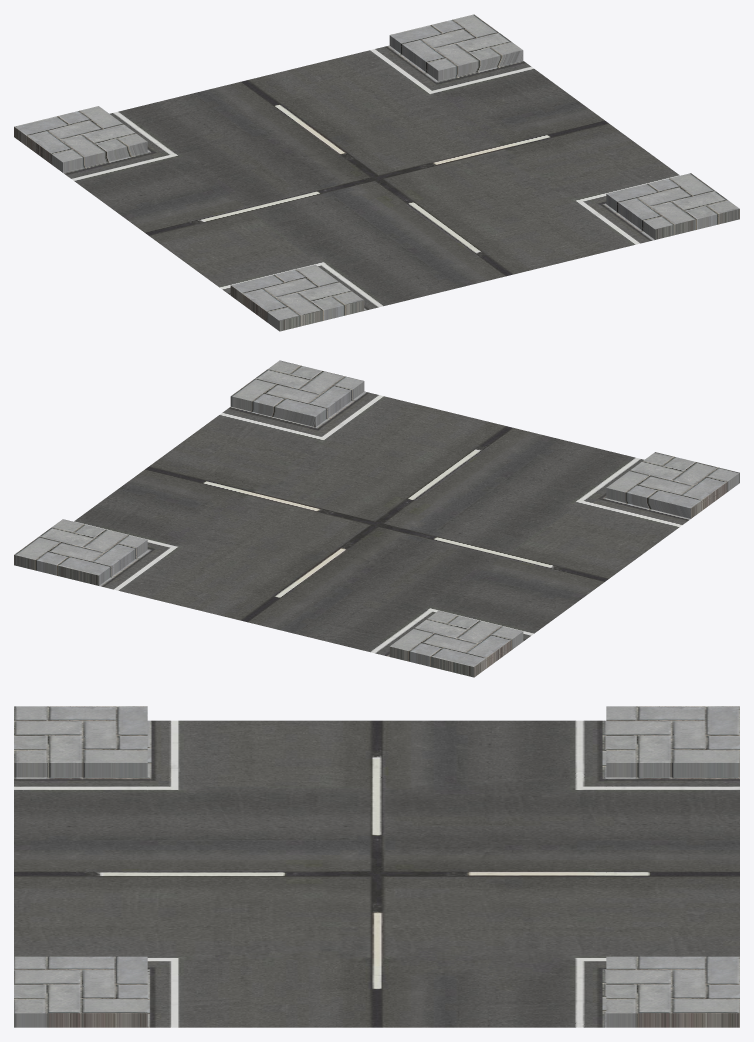
The model's file is road3.obj.
3 views of the same model, one above another, from view 1: azimuth 30°, elevation 25°; view 2: azimuth 150°, elevation 25°; view 3: azimuth 270°, elevation 25° (orthographic). The views are drawn at different scales.
Visible parts, largest first — view 1: Plane01; view 2: Plane01; view 3: Plane01.
Boxes of the visible parts, left/top/right/bottom form: Plane01: left=14, top=14, right=739, bottom=331; Plane01: left=14, top=360, right=739, bottom=677; Plane01: left=14, top=706, right=739, bottom=1027.
Size of the model in its own units: 1024 by 22.13 by 1024.
